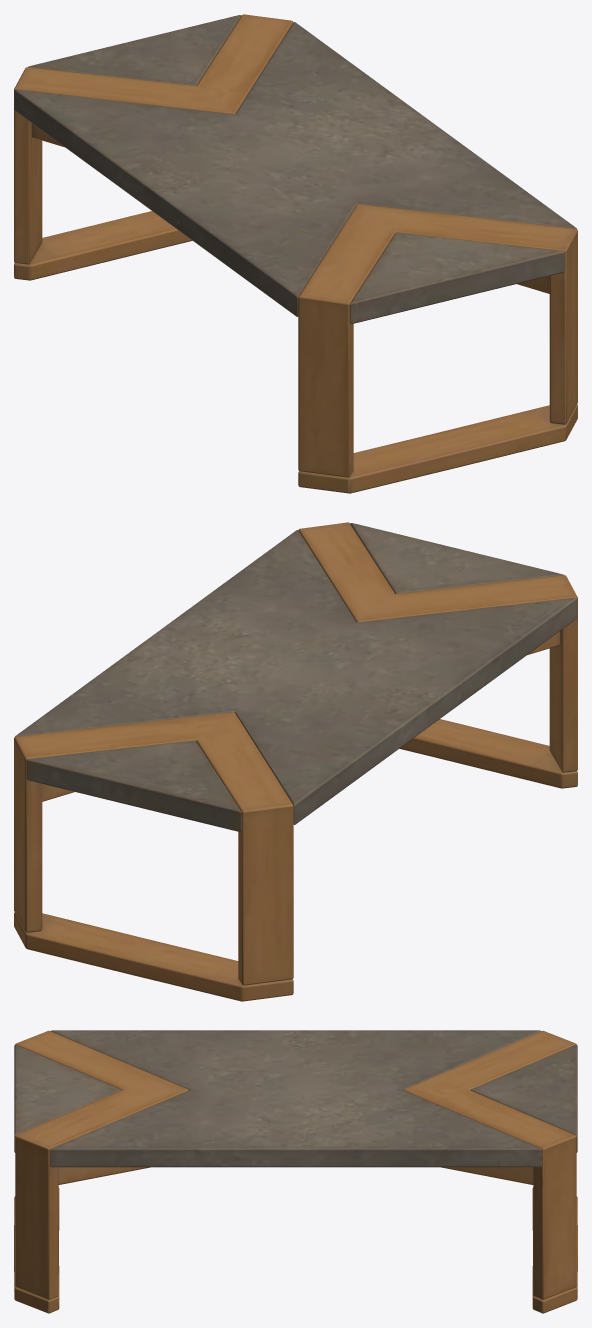
File: modern_coffee_table_01.glb
The picture shows the model from 3 angles, top to bottom: view 1: azimuth 30°, elevation 25°; view 2: azimuth 150°, elevation 25°; view 3: azimuth 270°, elevation 25°; orthographic projection. The views are drawn at different scales.
Visible parts, largest first — view 1: modern_coffee_table_01; view 2: modern_coffee_table_01; view 3: modern_coffee_table_01.
Part boxes in pixels (x1=…): modern_coffee_table_01: x1=14, y1=14, x2=577, y2=493; modern_coffee_table_01: x1=14, y1=522, x2=577, y2=1001; modern_coffee_table_01: x1=14, y1=1030, x2=577, y2=1313.
Size of the model in its own units: 0.5999 by 0.39 by 1.2.
1 material, 1 textured.
